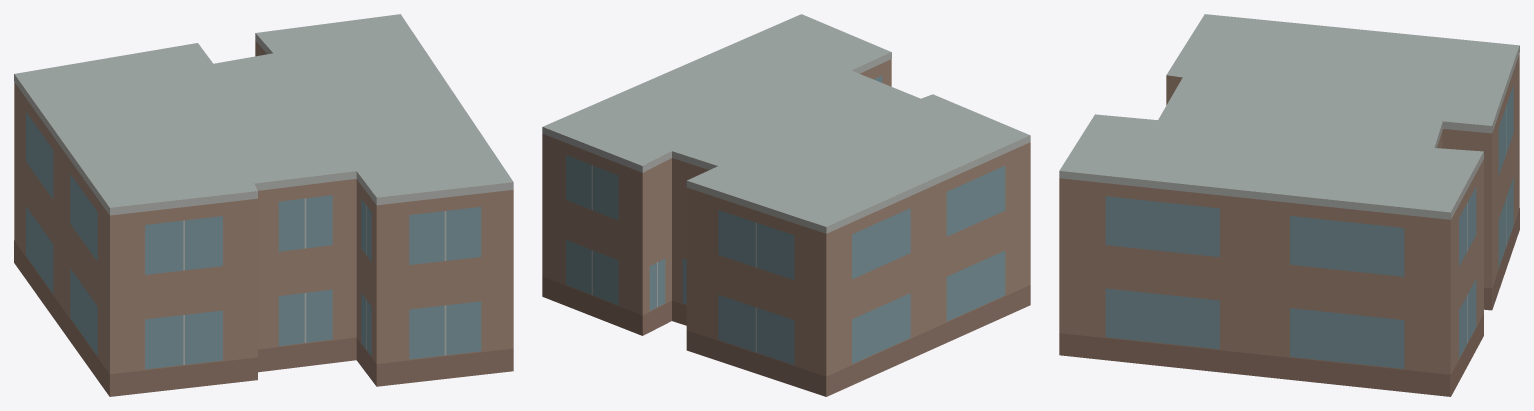
Rendered from survey-upis-32572587.glb.
The picture shows the model from 3 angles, left to right: view 1: azimuth 30°, elevation 25°; view 2: azimuth 150°, elevation 25°; view 3: azimuth 270°, elevation 25°; orthographic projection. The views are drawn at different scales.
Parts seen in each view (by area): view 1: survey-upis-32572587.tmp; view 2: survey-upis-32572587.tmp; view 3: survey-upis-32572587.tmp.
Part boxes in pixels (left/top/right/bottom): survey-upis-32572587.tmp: left=14, top=14, right=513, bottom=396; survey-upis-32572587.tmp: left=542, top=14, right=1030, bottom=396; survey-upis-32572587.tmp: left=1059, top=14, right=1519, bottom=396.
Bounding box in the file's own units: 14.1 × 6.1 × 13.82.
